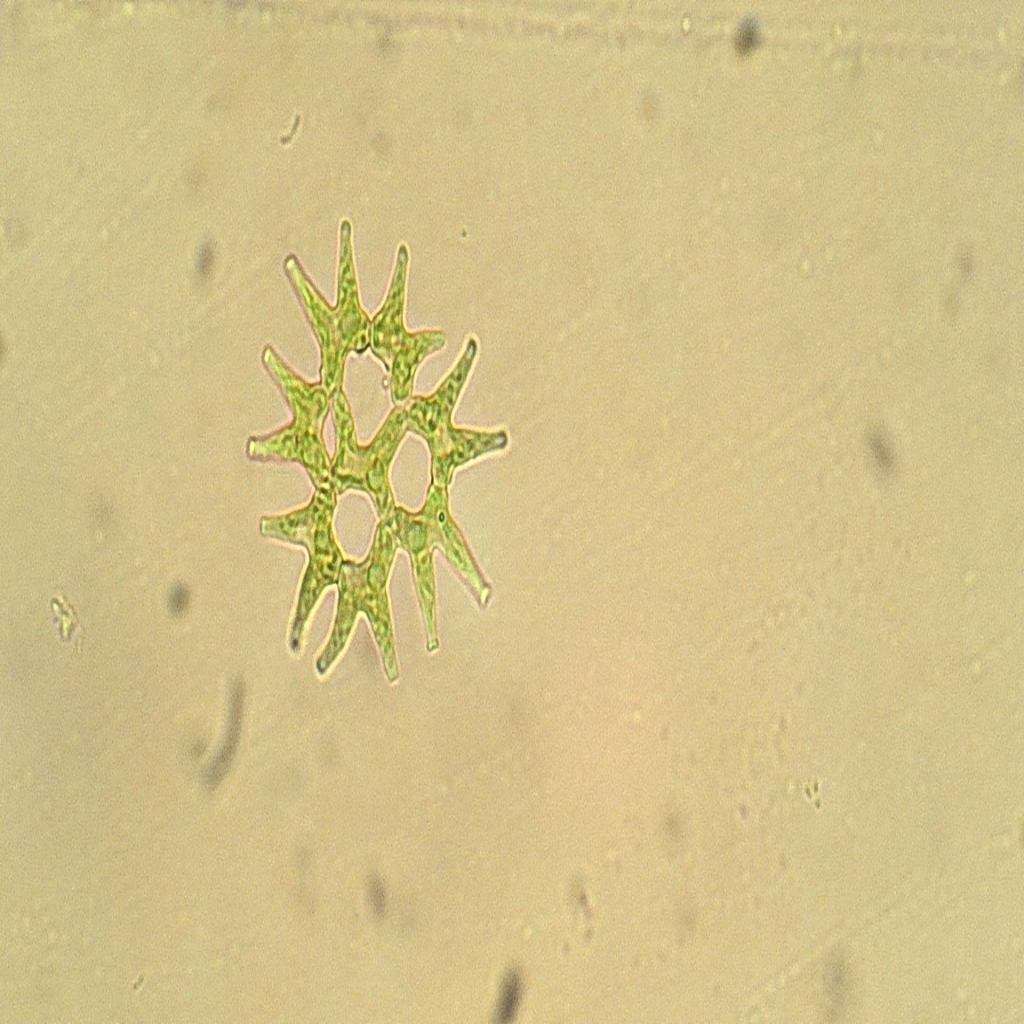Pediastrum_1T: (227, 196, 537, 686)
